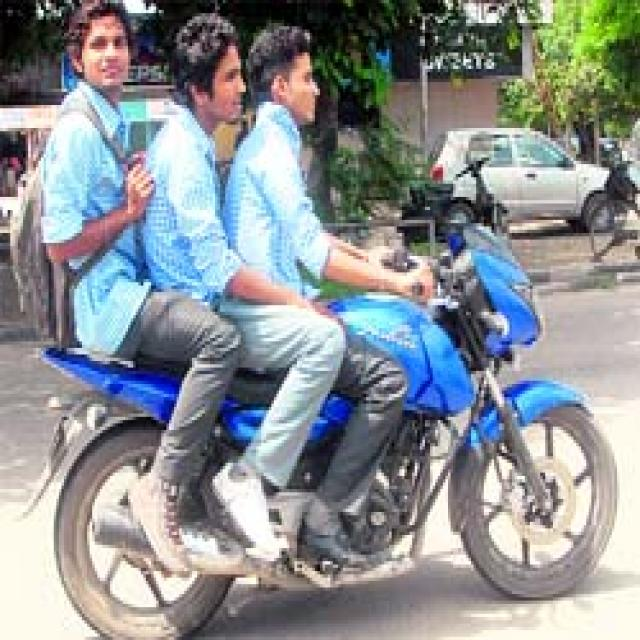Not Wearing Helmet: (269, 3, 333, 147)
Triple Riding: (46, 0, 543, 596)
